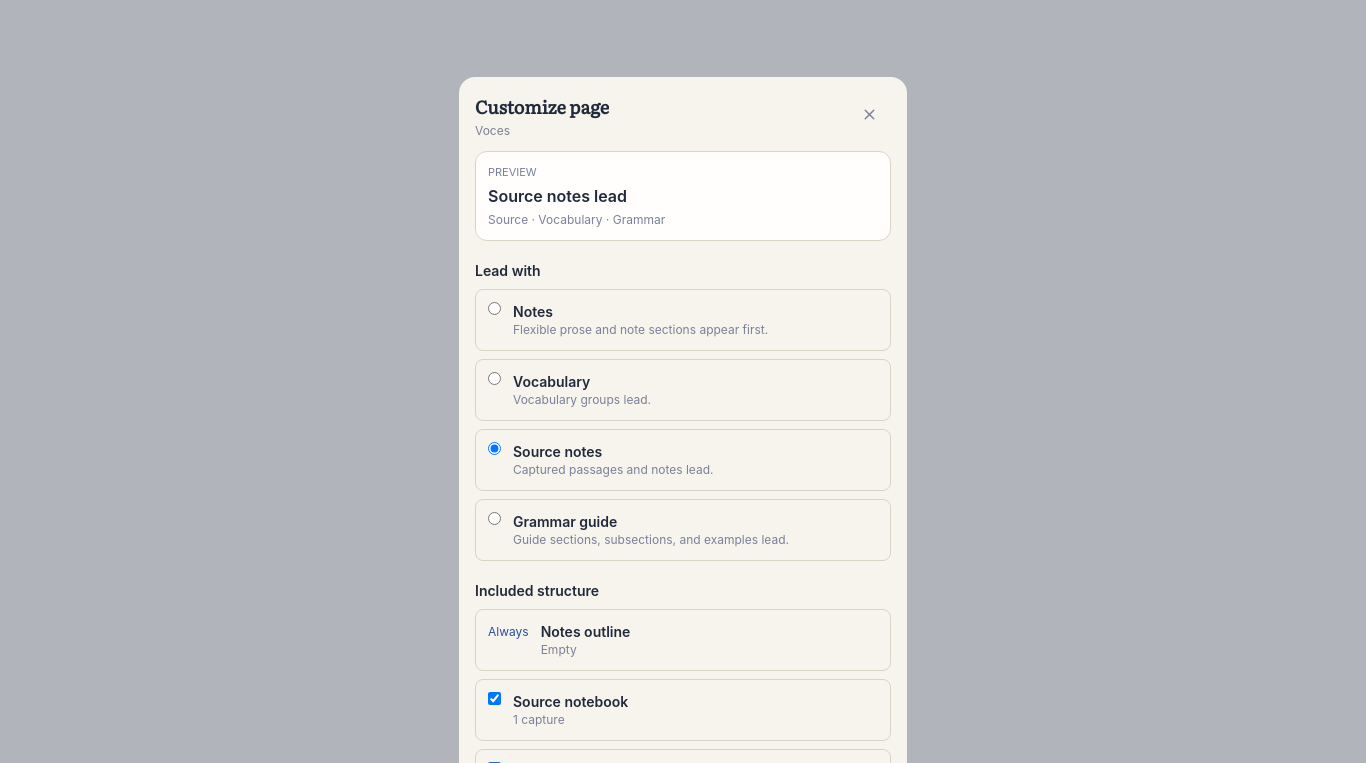
PageCustomizeSheet › falls back to Notes when the leading structure is hidden and preserves counts
This screenshot has width=1366, height=763.
Check: the text "1 capture" is shown, box [513,712,565,727]
Click the checkbox labelled "Source notebook 1 capture" at (494, 699), box [488,692,501,705]
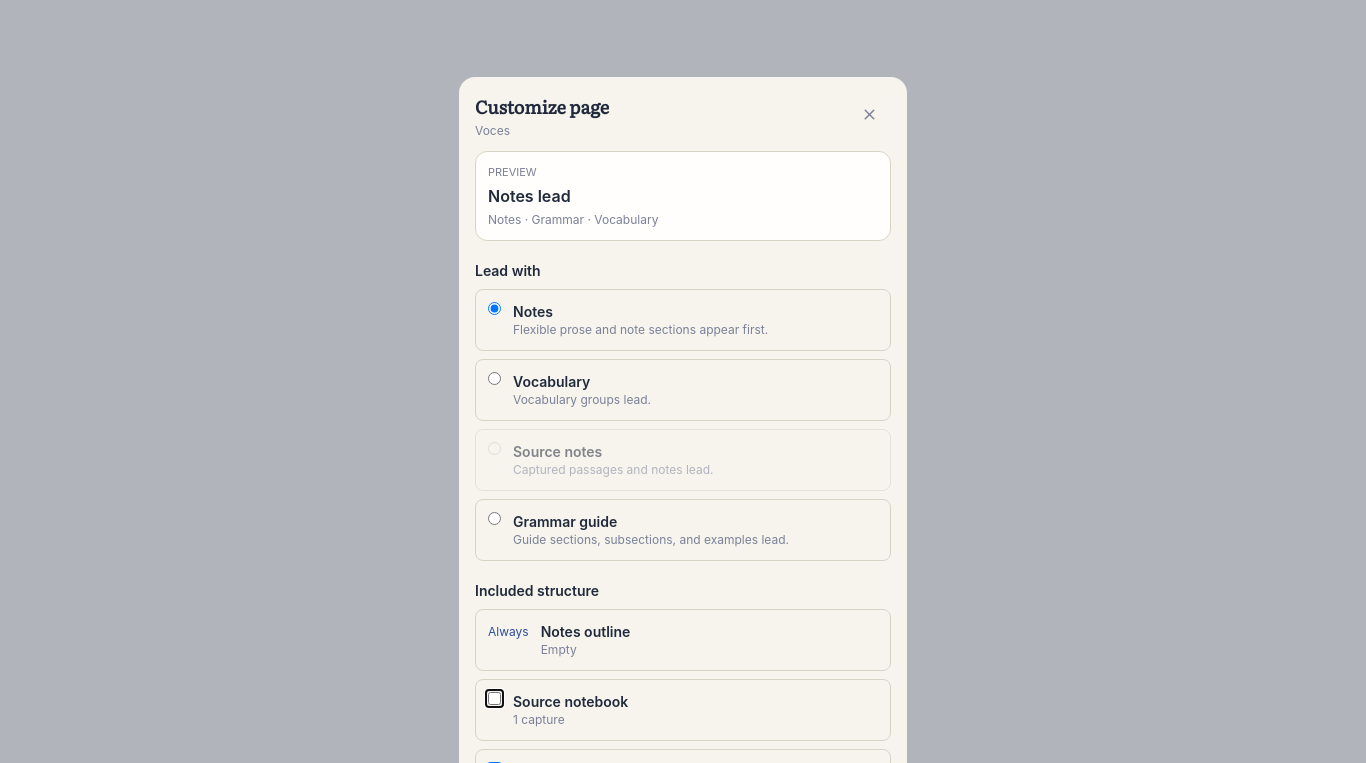
Check: the radio button labelled "Notes Flexible prose and note sections appear first." is checked, box [488,302,501,315]
